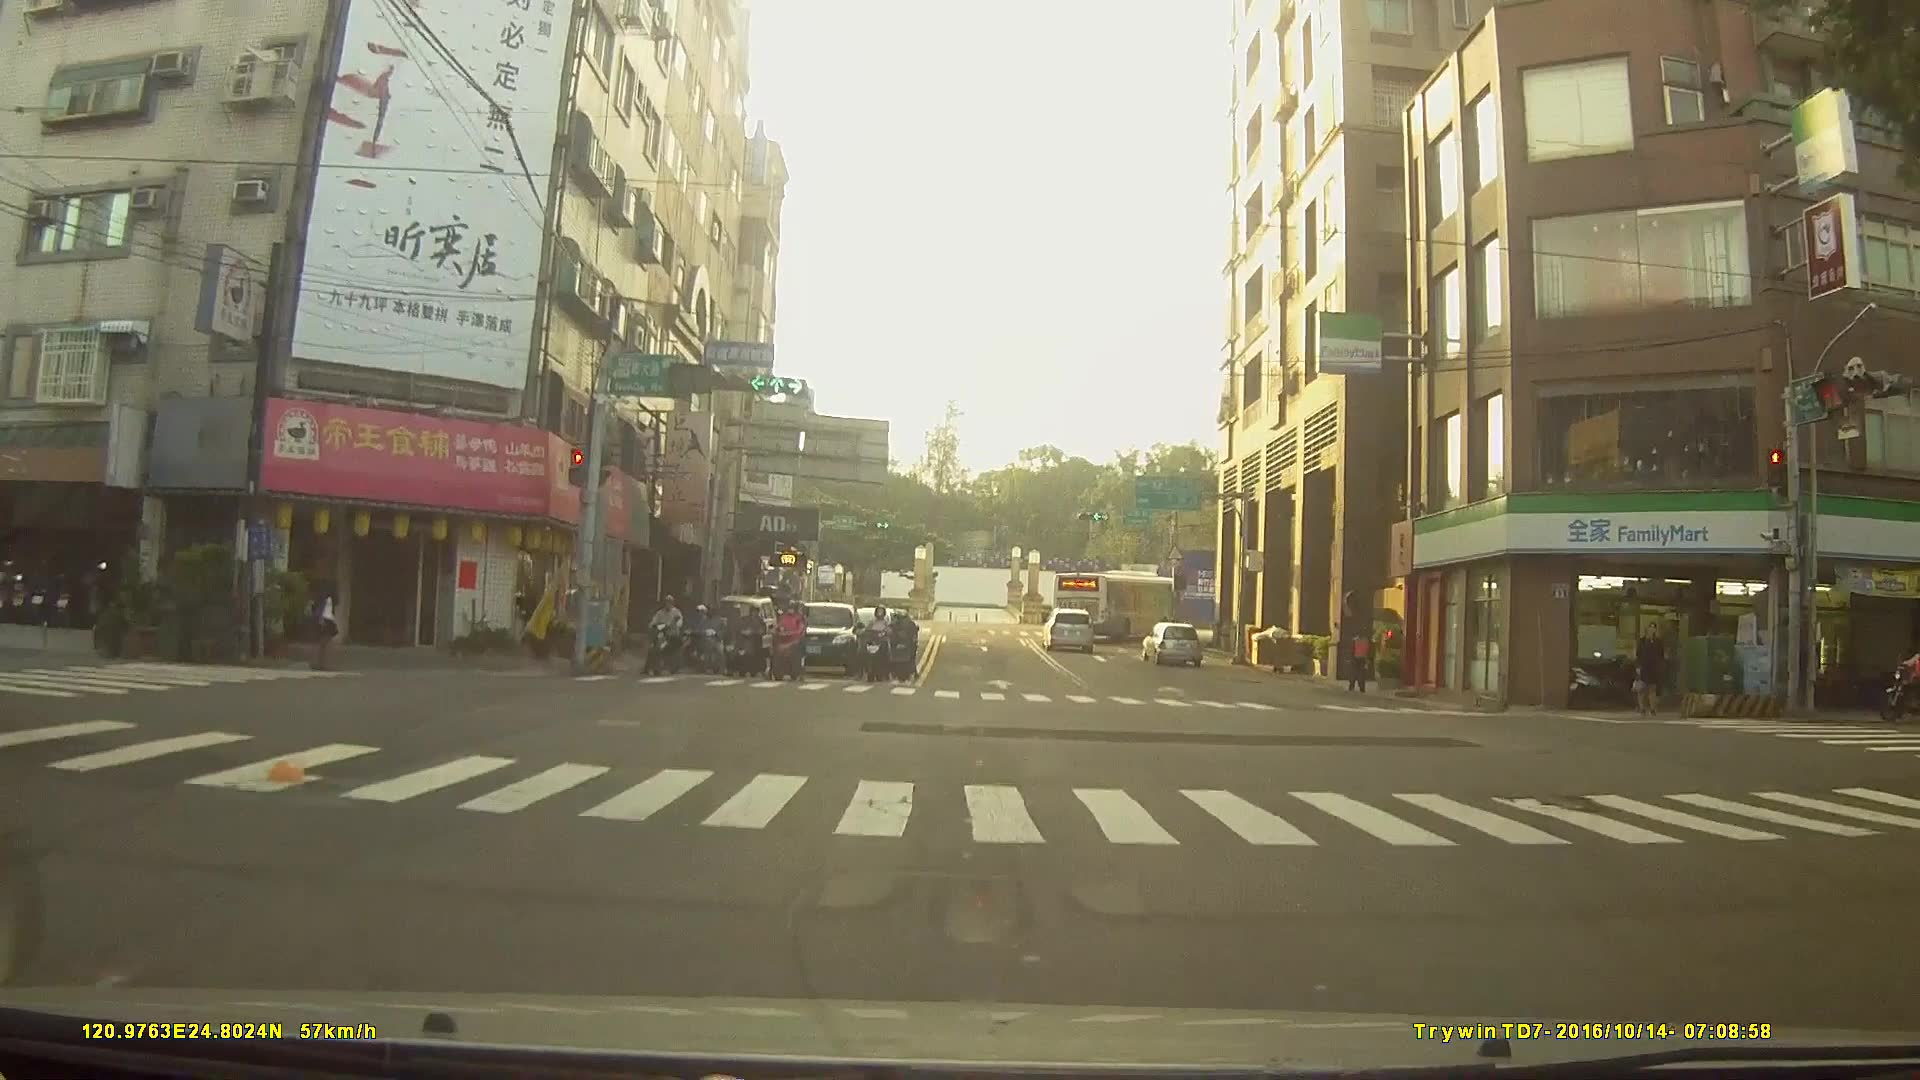pedestrian: (303, 573, 344, 666), (1631, 621, 1667, 715), (1344, 629, 1375, 695)
rider: (1876, 633, 1920, 724), (770, 595, 811, 685), (649, 592, 688, 681), (886, 603, 925, 681), (866, 603, 900, 683), (735, 602, 770, 677), (692, 599, 725, 668)
vehicle: (1050, 566, 1182, 639), (781, 600, 863, 674), (1138, 620, 1204, 665), (1042, 602, 1097, 650)
